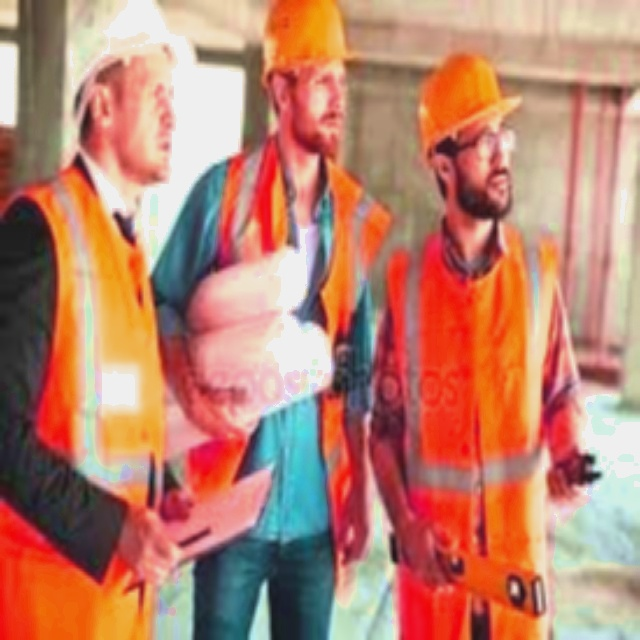Con_Chaleco: (376, 228, 596, 572), (8, 174, 172, 585)
